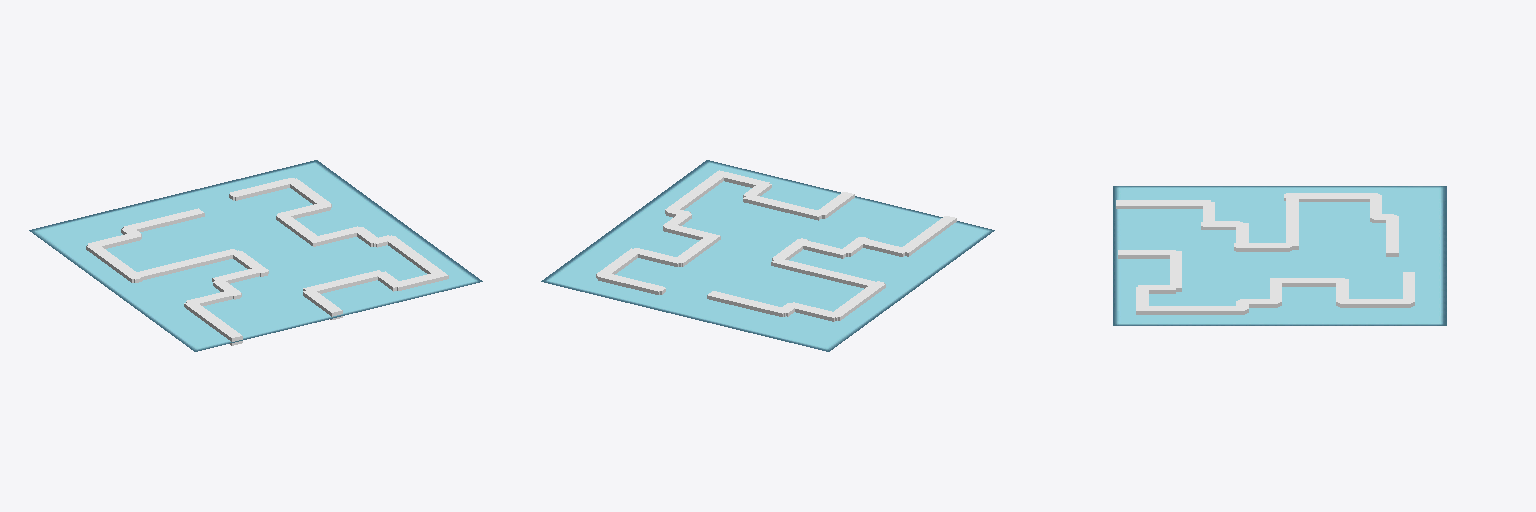
The picture shows the model from 3 angles: view 1: azimuth 30°, elevation 25°; view 2: azimuth 150°, elevation 25°; view 3: azimuth 270°, elevation 25°; orthographic projection.
Visible parts, largest first — view 1: Background1, Collider; view 2: Background1, Collider; view 3: Background1, Collider.
Part boxes in pixels (bbox=[...]): Background1: bbox=[29, 160, 482, 351]; Collider: bbox=[86, 178, 448, 345]; Background1: bbox=[541, 160, 994, 351]; Collider: bbox=[596, 170, 956, 321]; Background1: bbox=[1113, 186, 1446, 325]; Collider: bbox=[1116, 193, 1414, 314].
Bounding box in the file's own units: 40 × 1 × 40.
Materials: 2 (1 with a texture image).